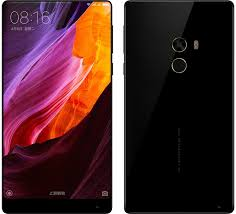mi: (118, 1, 236, 214), (1, 1, 118, 214)
